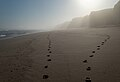human_footprint: (101, 35, 109, 44), (86, 67, 91, 71), (85, 77, 90, 81), (43, 75, 48, 78), (44, 65, 48, 68), (47, 59, 52, 61), (89, 55, 94, 57), (83, 60, 87, 62), (92, 51, 96, 53), (47, 55, 50, 57), (97, 46, 100, 48), (49, 51, 52, 53), (97, 48, 100, 50), (48, 49, 50, 51)
